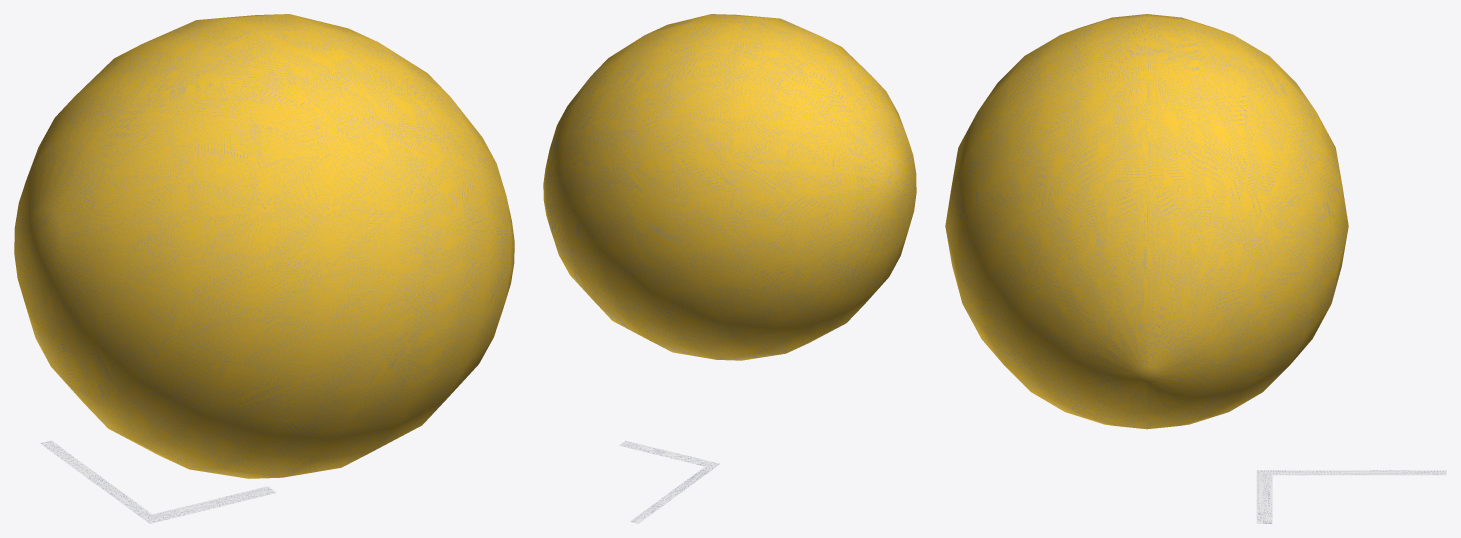
Rendered from lemon.dae.
The picture shows the model from 3 angles, left to right: view 1: azimuth 30°, elevation 25°; view 2: azimuth 150°, elevation 25°; view 3: azimuth 270°, elevation 25°; orthographic projection. The views are drawn at different scales.
Parts seen in each view (by area): view 1: SketchUp, group_0; view 2: SketchUp, group_0; view 3: SketchUp, group_0.
Part boxes in pixels (bbox=[...]): SketchUp: bbox=[14, 14, 514, 478]; group_0: bbox=[40, 440, 276, 523]; SketchUp: bbox=[543, 14, 916, 360]; group_0: bbox=[619, 440, 720, 523]; SketchUp: bbox=[945, 14, 1348, 429]; group_0: bbox=[1256, 470, 1446, 523].
Size of the model in its own units: 57.53 by 63.34 by 63.18.
